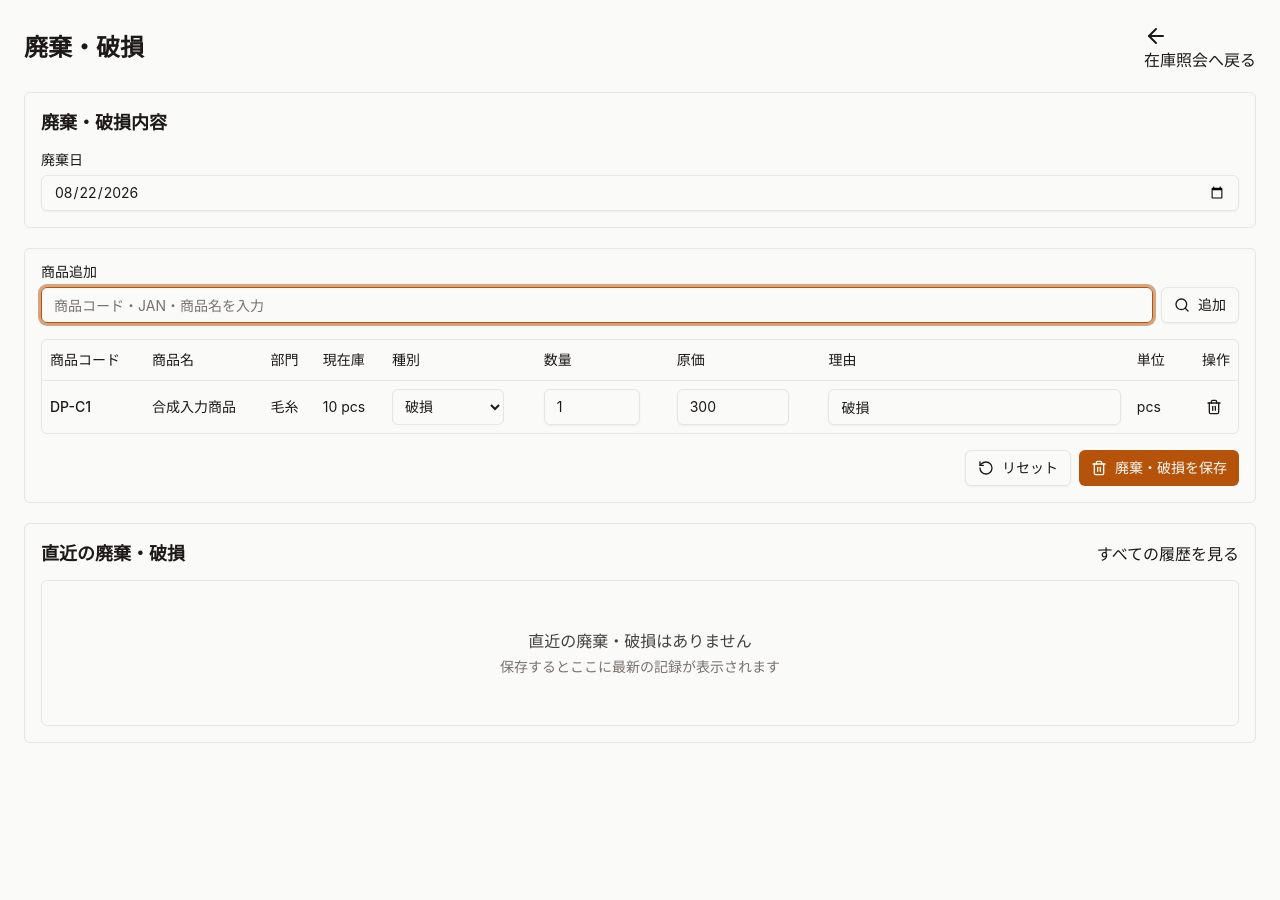
Test case: DisposalPage ProductAddSuggest (UI-05-D15/D16) › W16: compositionendは正規化済み引数で検索しlock中は発火しない
Expected: the text "合成入力商品" is shown, [144, 380, 263, 432]
Click the button "廃棄・破損を保存" at x=1159, y=468, box [1079, 450, 1239, 486]
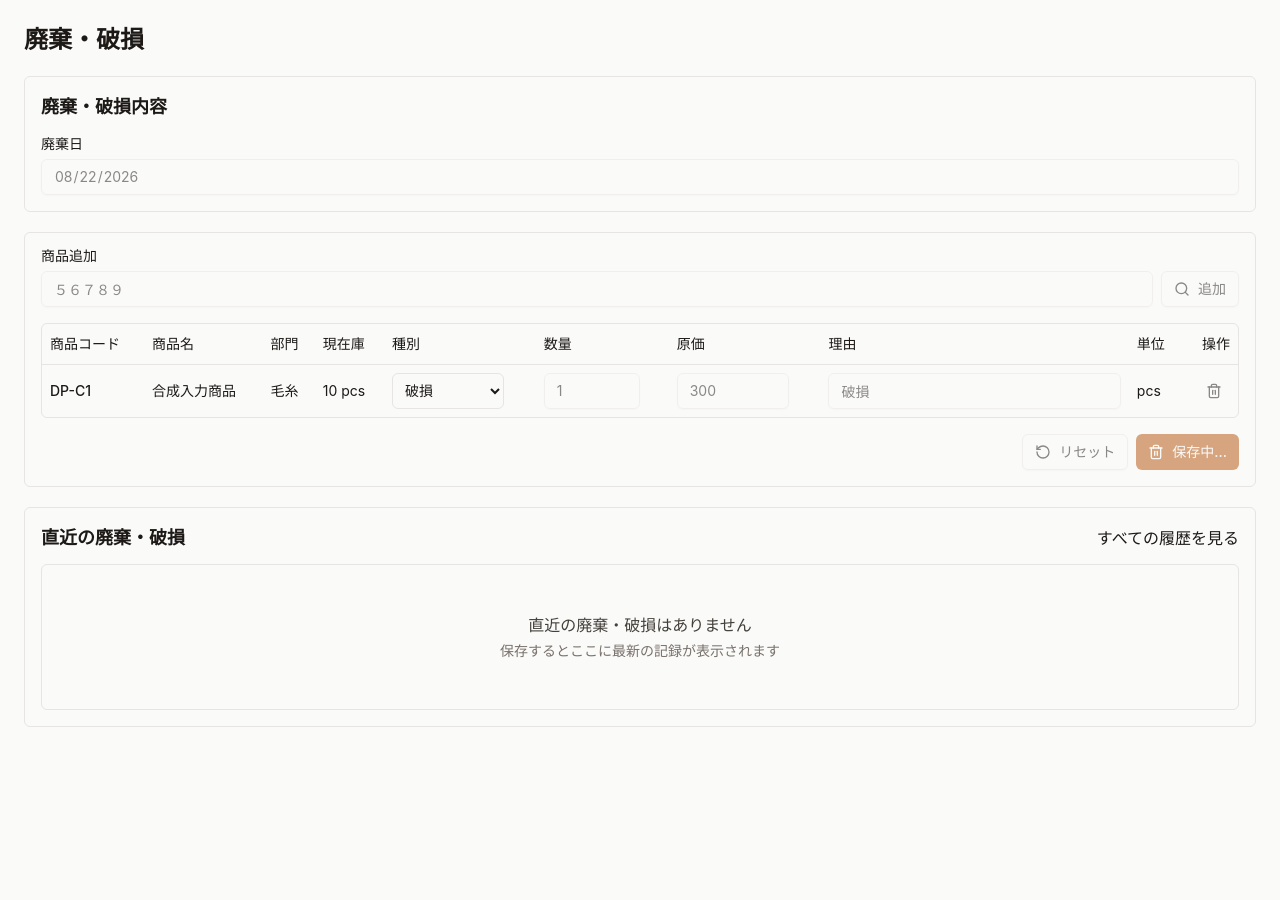
Now the dropdown named "廃棄・破損商品検索" holds "５６７８９", box [41, 271, 1153, 307]
